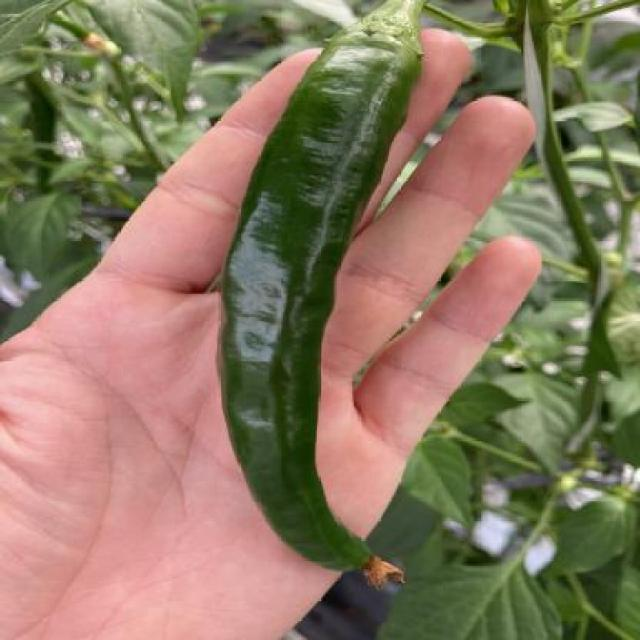green chilli: (215, 31, 423, 572)
